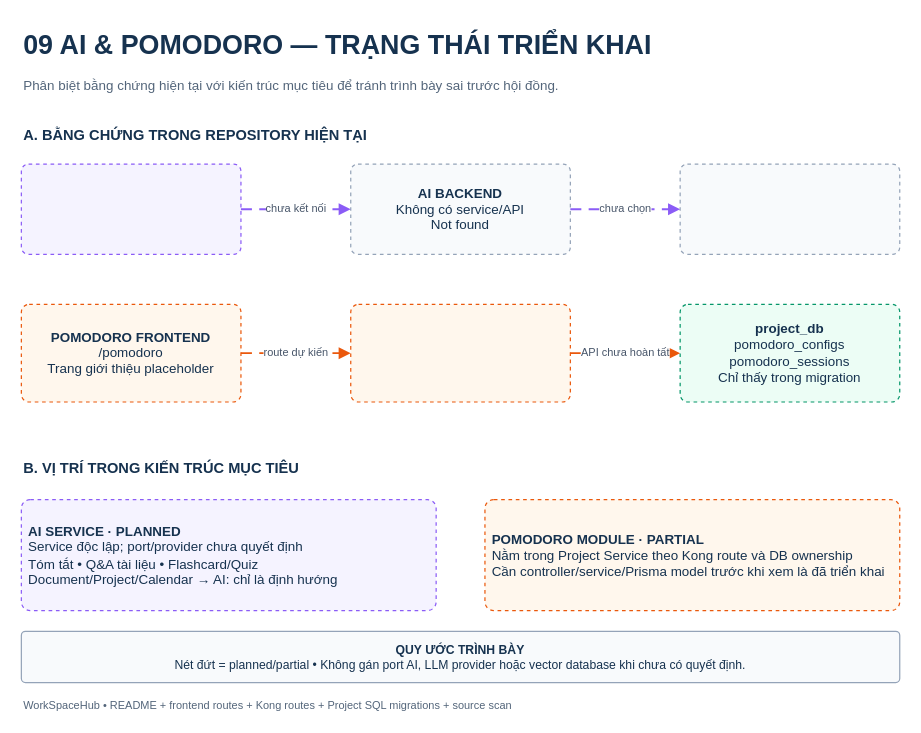
The diagram is 921 pixels wide and 733 high, and some of its shapes have lost their labels. Here are the shapes that lost their labels. From the top down, the centre of each, then its label:
the point at 130,208: AI FRONTEND /ai Trang giới thiệu placeholder
the point at 789,208: AI DEPENDENCIES LLM/RAG/Vector DB Not found
the point at 460,352: KONG → PROJECT /api/pomodoros Route đã cấu hình Handler: not found
